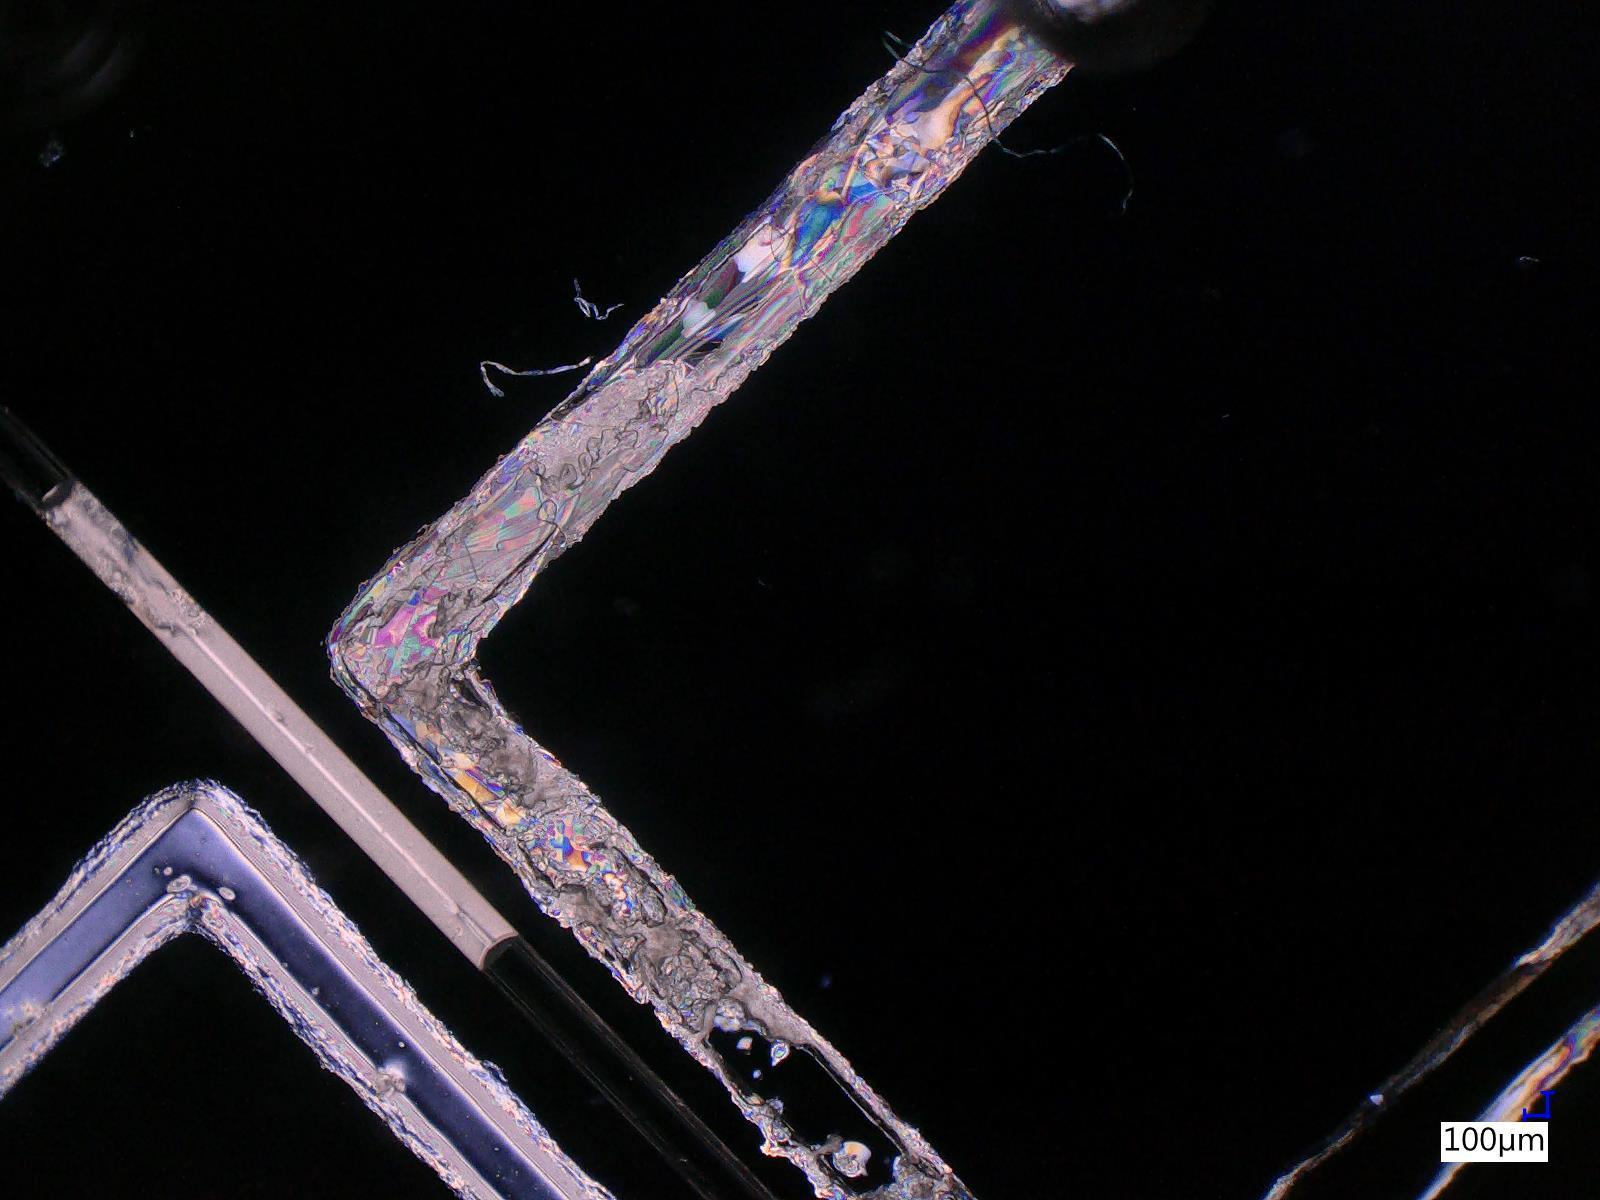sediment: (590, 870, 795, 1037), (380, 661, 477, 734), (873, 1156, 956, 1197)
